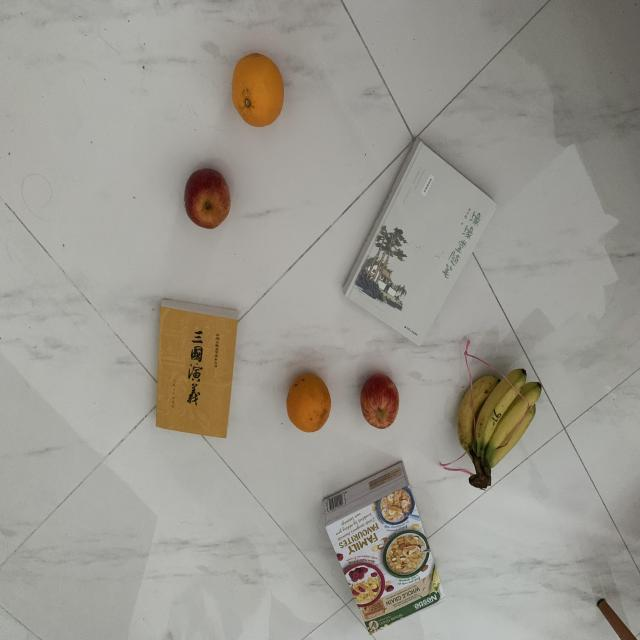Apple: (177, 158, 240, 238), (356, 367, 406, 433)
Banana: (450, 360, 544, 496)
Book: (340, 134, 505, 352), (152, 295, 236, 455)
Cerealbox: (318, 461, 447, 640)
Orange: (227, 45, 286, 132), (282, 368, 334, 439)
